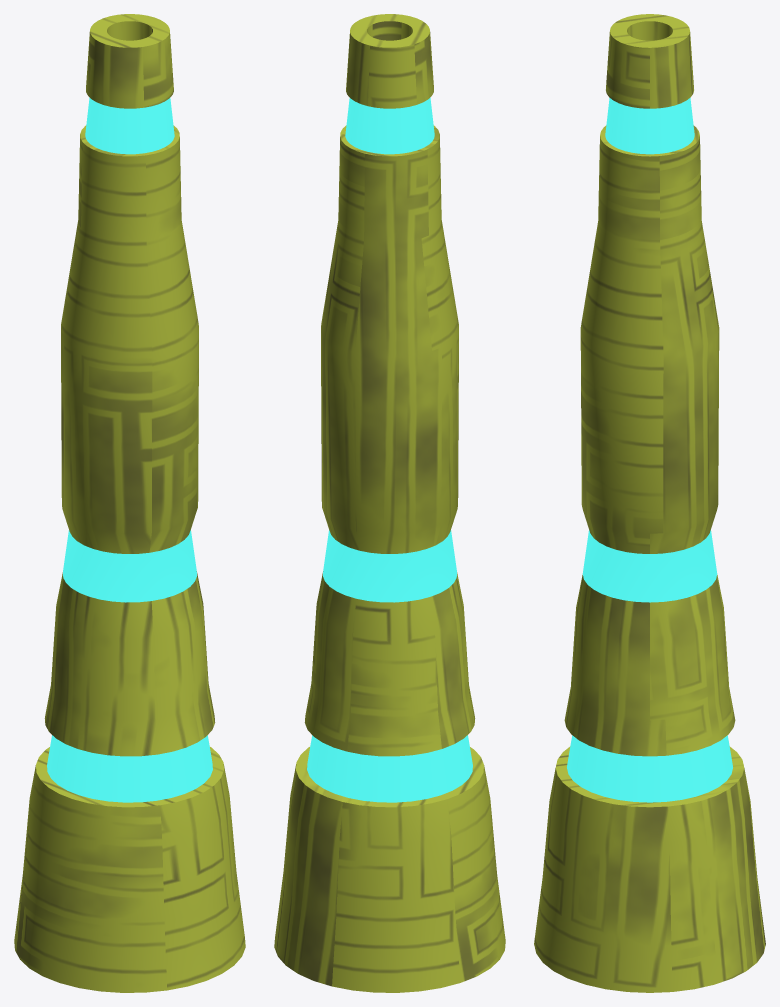
File: anttower.glb
The picture shows the model from 3 angles, left to right: view 1: azimuth 30°, elevation 25°; view 2: azimuth 150°, elevation 25°; view 3: azimuth 270°, elevation 25°; orthographic projection.
Parts seen in each view (by area): view 1: Cylinder-col; view 2: Cylinder-col; view 3: Cylinder-col.
Boxes of the visible parts, box(x1,y1,x2,y2) form: Cylinder-col: box(14, 14, 245, 992); Cylinder-col: box(274, 14, 505, 992); Cylinder-col: box(534, 14, 765, 992).
Size of the model in its own units: 3.83 by 16.62 by 3.83.
Materials: 2 (1 with a texture image).
